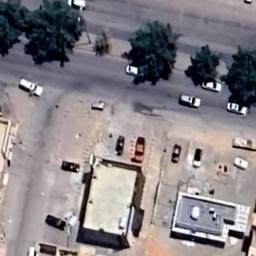SUV: (15, 74, 44, 99), (178, 90, 203, 110), (66, 0, 88, 12)
sedan: (122, 62, 150, 81), (54, 158, 84, 174), (225, 100, 250, 118), (43, 214, 68, 232), (200, 76, 222, 94), (132, 136, 146, 164), (170, 142, 183, 165), (192, 145, 202, 170)
